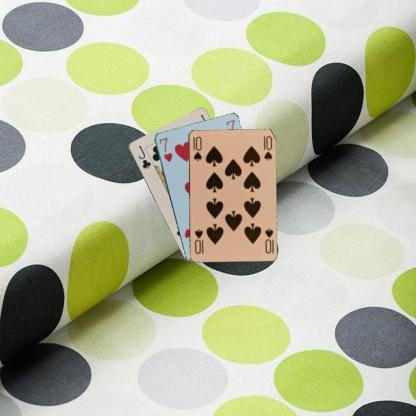10s: (190, 134, 203, 162), (262, 225, 274, 254)
7h: (156, 135, 173, 163)
Jc: (136, 143, 152, 170)
